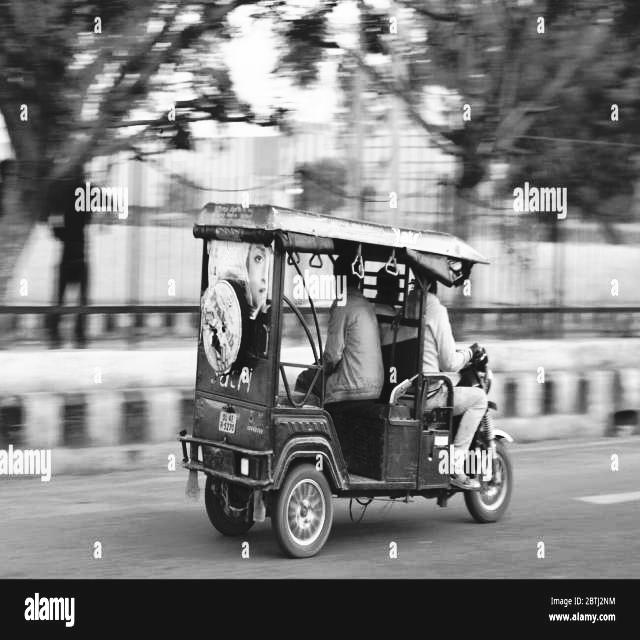Toto: (188, 197, 514, 559)
